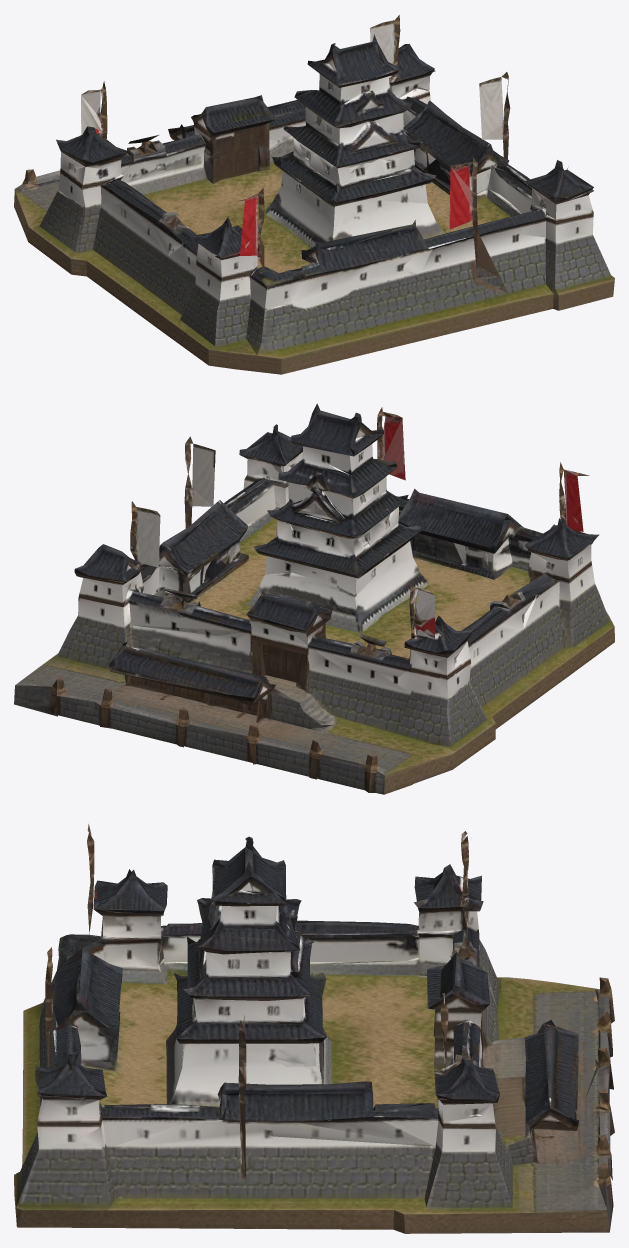
Rendered from camp_japan_3.glb.
3 views of the same model, one above another, from view 1: azimuth 30°, elevation 25°; view 2: azimuth 150°, elevation 25°; view 3: azimuth 270°, elevation 25° (orthographic). The views are drawn at different scales.
Parts seen in each view (by area): view 1: camp_japan_3; view 2: camp_japan_3; view 3: camp_japan_3.
Boxes of the visible parts, left/top/right/bottom form: camp_japan_3: left=14, top=15, right=614, bottom=374; camp_japan_3: left=14, top=403, right=614, bottom=794; camp_japan_3: left=14, top=824, right=614, bottom=1233.
Size of the model in its own units: 0.9329 by 0.5152 by 1.
1 material, 1 textured.
